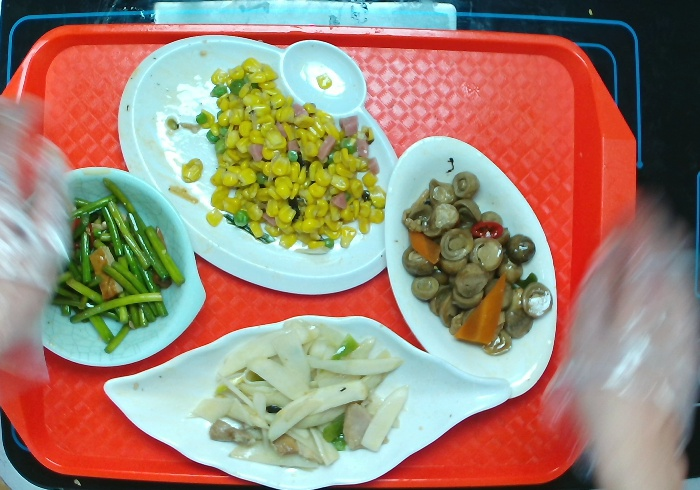RJxy-Bai_Se_Tuo_Yuan: (382, 133, 558, 400)
RJxy-Shu_Ye_Pan: (101, 312, 513, 490)
RJxy-Xiao_Jiao_Yuan_Wan: (14, 164, 207, 369)
RJxy-Zhan_Liao_Pan: (116, 33, 400, 295)
